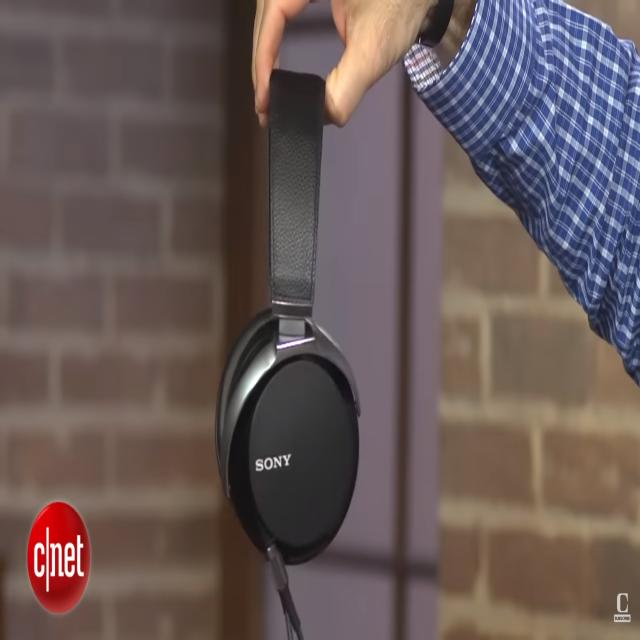Headphone: (214, 70, 360, 569)
